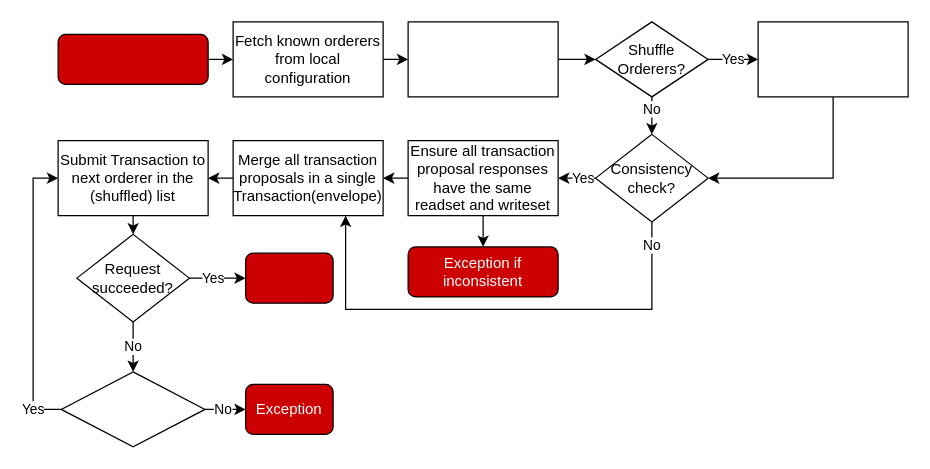
The diagram is 930 pixels wide and 469 high, and some of its shapes have lost their labels. Each missing label, with the centre of its shape:
"Broadcasting a transaction" belongs at (132,58).
"End" belongs at (288,277).
"Fetch User Context (identity) from local configuration" belongs at (482,59).
"More orderers remaining?" belongs at (132,409).
"Orderers are being shuffled" belongs at (832,59).
